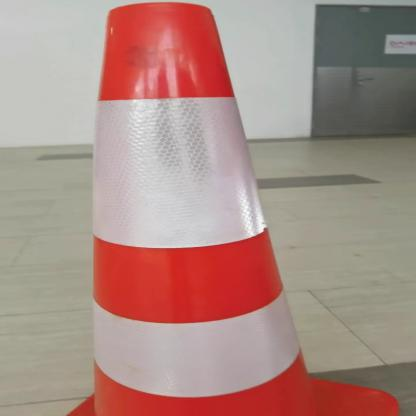cone: (49, 2, 415, 415)
